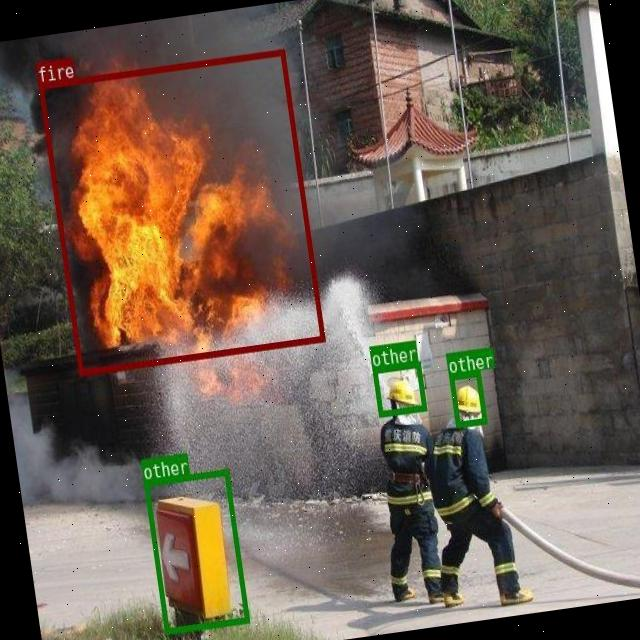fire: (38, 48, 325, 375)
